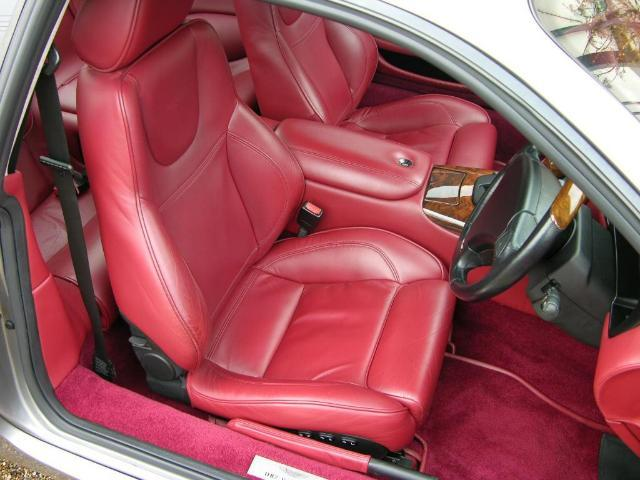Seatbelt: (34, 63, 114, 379)
